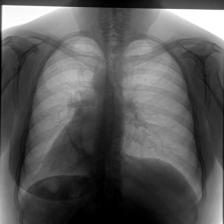tuberculosis: (10, 28, 210, 224)
